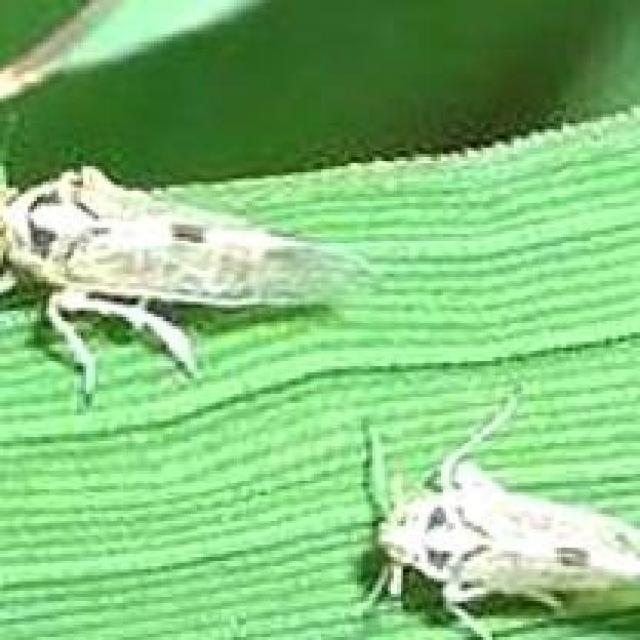brown-planthopper: (0, 164, 355, 318), (372, 468, 640, 615)
